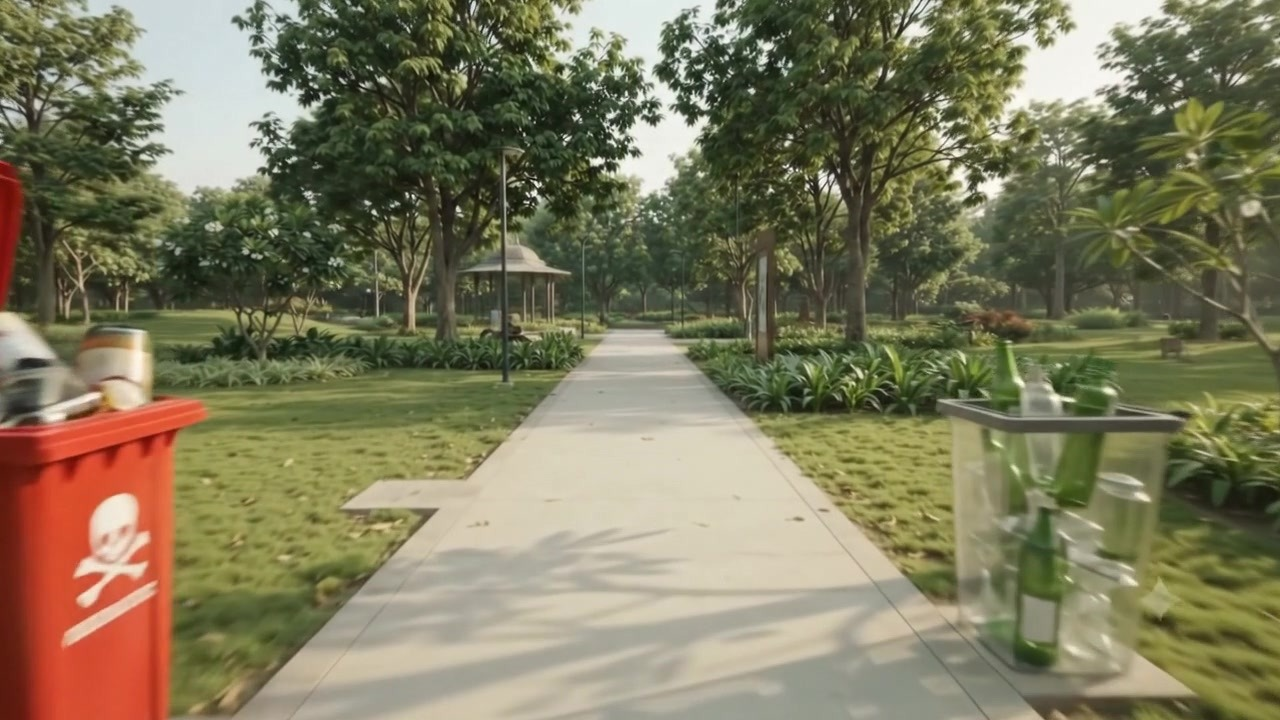glass: (922, 331, 1165, 662)
